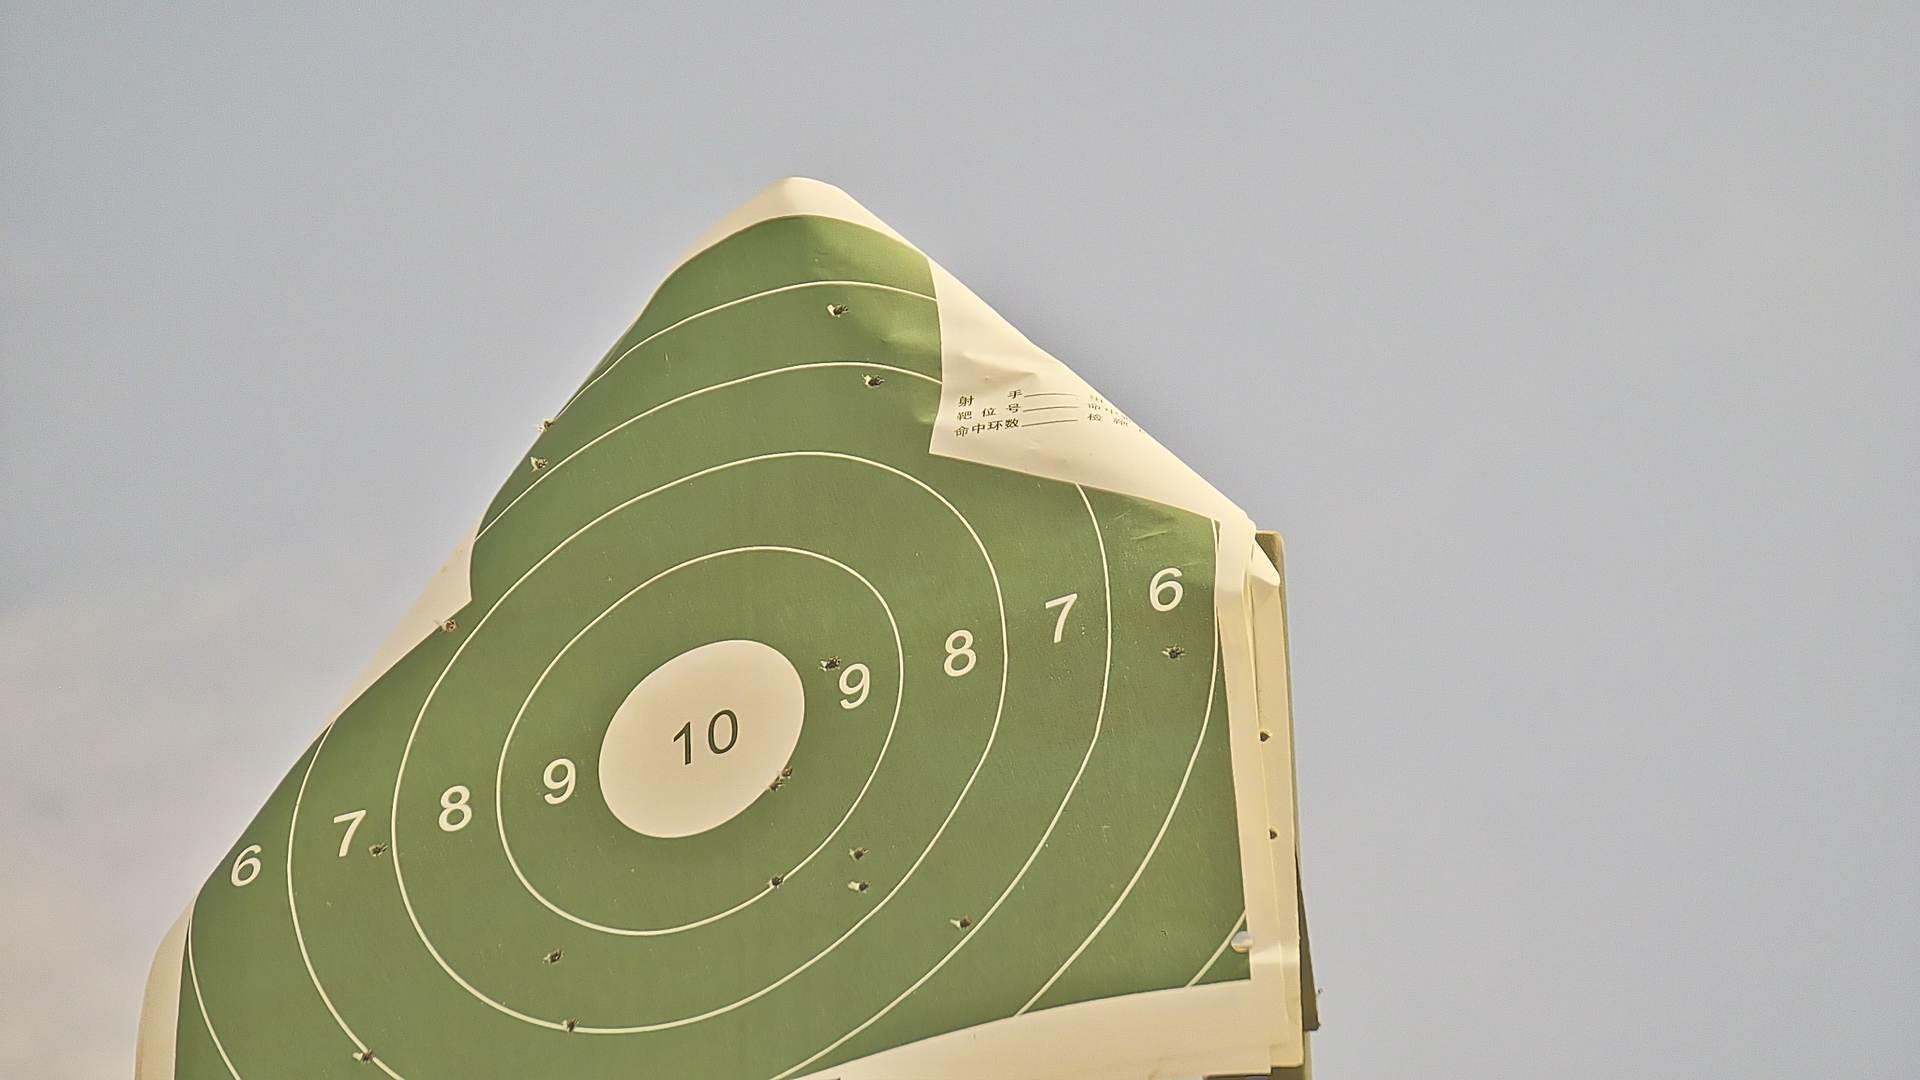hole: (1166, 644, 1180, 659), (829, 305, 847, 318), (371, 843, 386, 856), (955, 916, 971, 930), (534, 458, 549, 471), (563, 1021, 578, 1034), (823, 655, 837, 669), (770, 872, 783, 886), (444, 618, 458, 632), (853, 845, 866, 858), (549, 948, 560, 963), (781, 764, 795, 775), (767, 777, 782, 789), (359, 1051, 371, 1064), (542, 419, 553, 433), (857, 878, 868, 891), (868, 377, 881, 386)
kernel: (700, 736, 702, 742)
target: (173, 211, 1253, 1080)
ten: (599, 636, 804, 837)
